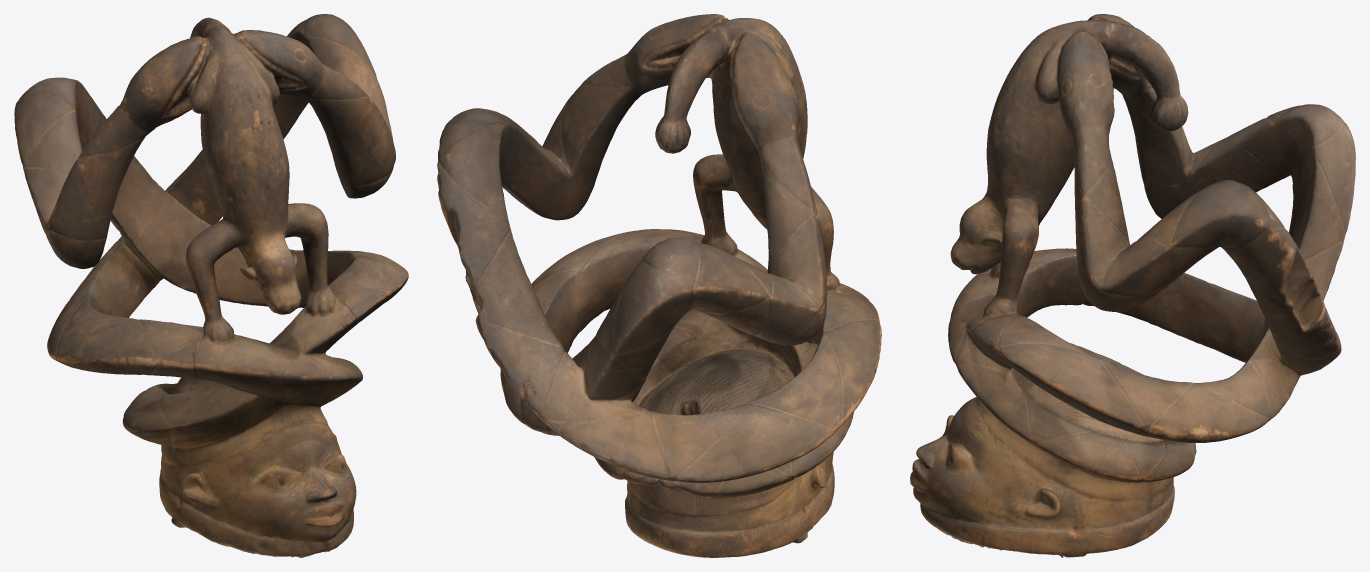
File: preview.glb
3 renders of one model, left to right at view 1: azimuth 30°, elevation 25°; view 2: azimuth 150°, elevation 25°; view 3: azimuth 270°, elevation 25°, orthographic. The views are drawn at different scales.
Visible parts, largest first — view 1: PG_1990_336_OB_HelmetMask_n3d; view 2: PG_1990_336_OB_HelmetMask_n3d; view 3: PG_1990_336_OB_HelmetMask_n3d.
Boxes of the visible parts, box(x1,y1,x2,y2) form: PG_1990_336_OB_HelmetMask_n3d: box(14, 14, 408, 557); PG_1990_336_OB_HelmetMask_n3d: box(437, 14, 881, 557); PG_1990_336_OB_HelmetMask_n3d: box(910, 14, 1355, 557).
Bounding box in the file's own units: 0.4056 × 0.5643 × 0.4617.
1 material, 1 textured.
